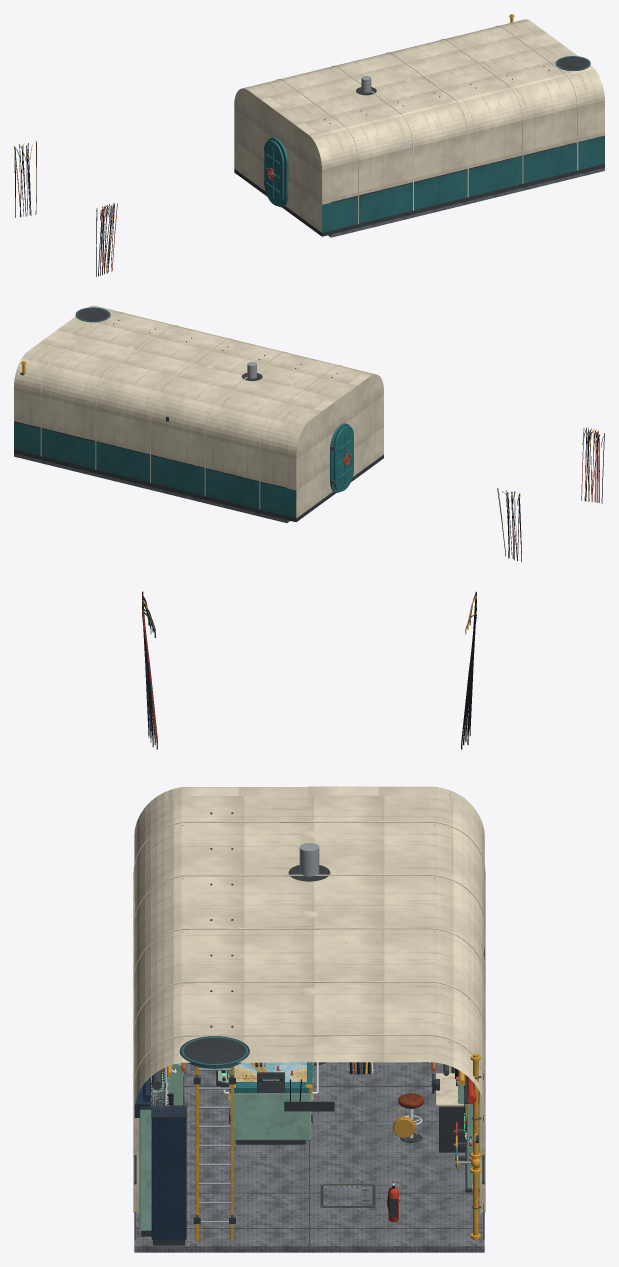
Rendered from ControlRoom.glb.
The picture shows the model from 3 angles, top to bottom: view 1: azimuth 30°, elevation 25°; view 2: azimuth 150°, elevation 25°; view 3: azimuth 270°, elevation 25°; orthographic projection. The views are drawn at different scales.
Visible parts, largest first — view 1: ControlRoom_Shell_Body, Bulkhead_1_Body, ControlRoom_CableLooms_Body, ControlRoom_Shell_Structure, WatertightDoor_Leaf.001, ControlRoom_Shell_Floor, CeilingHatch_Body.001, WatertightDoor_Body.001; view 2: ControlRoom_Shell_Body, Bulkhead_1_Body, ControlRoom_CableLooms_Body, ControlRoom_Shell_Structure, WatertightDoor_Leaf.001, ControlRoom_Shell_Floor, CeilingHatch_Body.001; view 3: ControlRoom_Shell_Body, ControlRoom_Shell_Floor, ControlRoom_Shell_Structure, NavTable_Body.001, Rack_50_3_Body.001, Bulkhead_1_Body, Ladder_Body.001, SonarStation_Body.001, Rack_90_0_Body.001, ControlRoom_CableLooms_Body, CeilingHatch_Body.001, PipeRiserMustard_Body.001 (+3 smaller).
Boxes of the visible parts, x1,y1,x2,y2 form: ControlRoom_Shell_Body: (252,19,604,234); Bulkhead_1_Body: (234,86,330,236); ControlRoom_CableLooms_Body: (14,141,117,276); ControlRoom_Shell_Structure: (277,25,578,224); WatertightDoor_Leaf.001: (264,140,284,206); ControlRoom_Shell_Floor: (328,168,604,237); CeilingHatch_Body.001: (555,56,590,70); WatertightDoor_Body.001: (264,137,288,207); ControlRoom_Shell_Body: (14,305,366,519); Bulkhead_1_Body: (287,372,383,522); ControlRoom_CableLooms_Body: (497,427,604,562); ControlRoom_Shell_Structure: (40,311,341,509); WatertightDoor_Leaf.001: (333,425,353,491); ControlRoom_Shell_Floor: (14,453,289,523); CeilingHatch_Body.001: (75,307,110,322); ControlRoom_Shell_Body: (134,795,484,1239); ControlRoom_Shell_Floor: (134,1062,484,1252); ControlRoom_Shell_Structure: (133,810,485,1213); NavTable_Body.001: (216,1062,318,1144); Rack_50_3_Body.001: (151,1105,186,1245); Bulkhead_1_Body: (134,786,484,842); Ladder_Body.001: (193,1066,235,1241); SonarStation_Body.001: (434,1068,466,1152); Rack_90_0_Body.001: (139,1080,168,1236); ControlRoom_CableLooms_Body: (142,591,476,1101); CeilingHatch_Body.001: (179,1036,249,1068); PipeRiserMustard_Body.001: (458,1053,483,1240).
Size of the model in its own units: 16.77 by 3.4 by 5.02.
112 materials, 93 textured.
